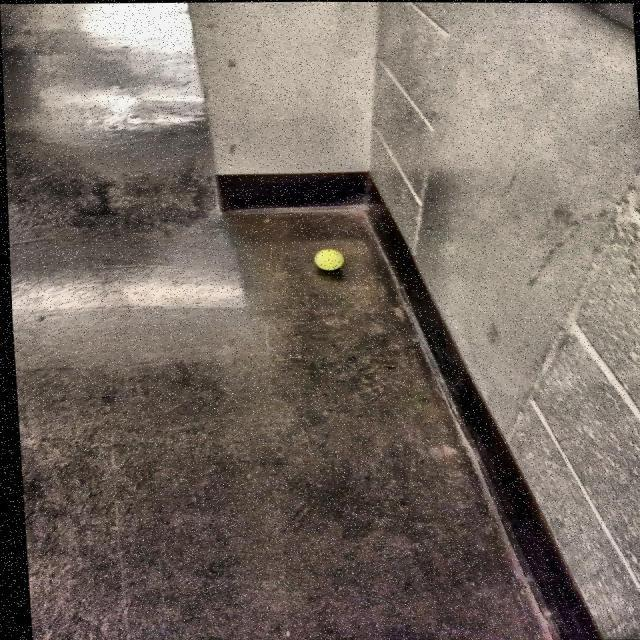tennis-ball: (310, 244, 348, 276)
